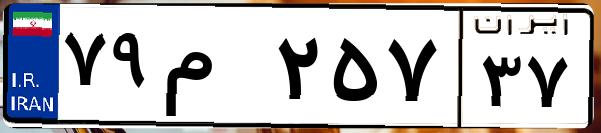2: (270, 28, 330, 110)
3: (475, 38, 525, 113)
5: (330, 28, 385, 110)
7: (385, 28, 445, 110), (57, 26, 110, 100), (525, 38, 570, 115)
9: (110, 28, 158, 98)
م: (158, 20, 270, 120)
